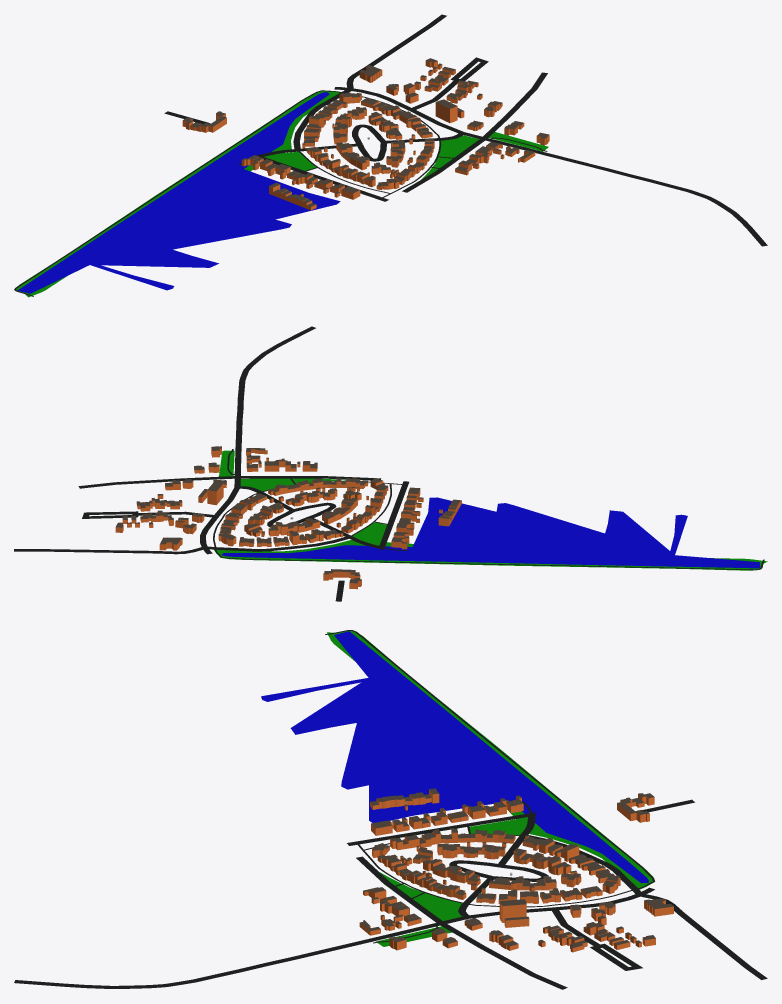
The model's file is ma_place.obj.
3 renders of one model, top to bottom at view 1: azimuth 30°, elevation 25°; view 2: azimuth 150°, elevation 25°; view 3: azimuth 270°, elevation 25°, orthographic. The views are drawn at different scales.
Parts seen in each view (by area): view 1: map_4.osm_water, map_4.osm_buildings, map_4.osm_roads_residential, map_4.osm_vegetation, map_4.osm_paths_footway; view 2: map_4.osm_water, map_4.osm_buildings, map_4.osm_roads_residential, map_4.osm_vegetation, map_4.osm_paths_footway; view 3: map_4.osm_water, map_4.osm_buildings, map_4.osm_roads_residential, map_4.osm_vegetation, map_4.osm_paths_footway.
Part boxes in pixels (box(x1,y1,x2,y2)): map_4.osm_water: box(17, 92, 340, 293); map_4.osm_buildings: box(182, 58, 549, 210); map_4.osm_roads_residential: box(164, 14, 767, 246); map_4.osm_vegetation: box(16, 91, 548, 297); map_4.osm_paths_footway: box(14, 90, 547, 296); map_4.osm_water: box(221, 497, 760, 568); map_4.osm_buildings: box(115, 446, 461, 589); map_4.osm_roads_residential: box(14, 326, 409, 601); map_4.osm_vegetation: box(214, 450, 767, 570); map_4.osm_paths_footway: box(213, 449, 764, 570); map_4.osm_water: box(261, 631, 648, 883); map_4.osm_buildings: box(359, 788, 673, 952); map_4.osm_roads_residential: box(14, 799, 767, 989); map_4.osm_vegetation: box(327, 631, 653, 946); map_4.osm_paths_footway: box(325, 630, 654, 943).
Size of the model in its own units: 785 by 18.28 by 695.
